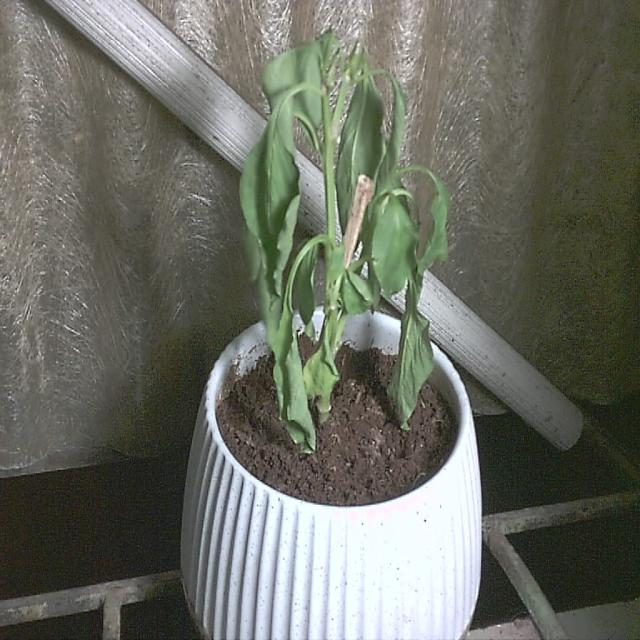Leaf: (237, 85, 300, 312), (260, 288, 318, 457), (368, 188, 417, 306)
